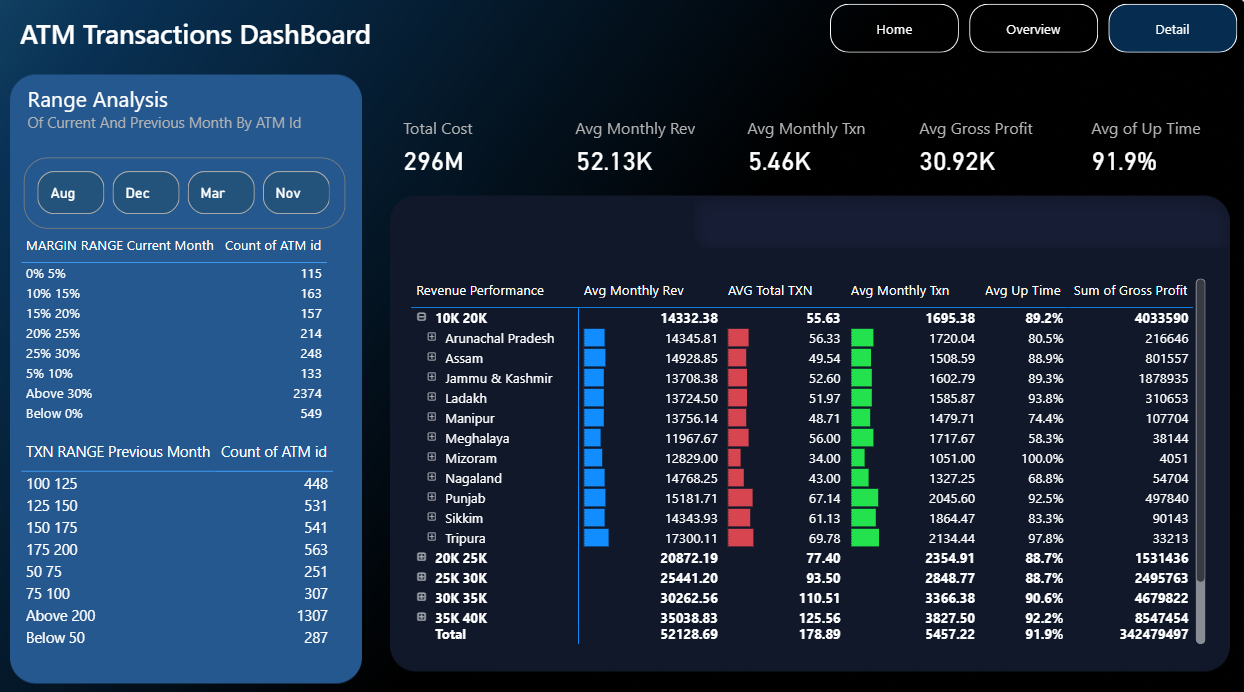

This screenshot's page, from the dashboard's own definition file:
{"tool":"powerbi","page":{"name":"Detail","canvas":[1280,720],"ordinal":2},"visuals":[{"type":"tableEx","fields":{"Values":["DataSet.MARGIN RANGE Current Month","DataSet.ATM id"]},"box":[34.8,239,338.7,205.7],"z":0},{"type":"tableEx","fields":{"Values":["DataSet.TXN RANGE Previous Month","DataSet.ATM id"]},"box":[34.8,444.7,338.7,232.6],"z":1000},{"type":"advancedSlicerVisual","fields":{"Values":["DataSet.Short_Month"]},"box":[44.3,167.8,321.3,71.2],"z":2000},{"type":"textbox","box":[42.7,88.6,321.3,79.1],"z":3000},{"type":"textbox","box":[34.8,20.6,476.4,53.8],"z":4000},{"type":"pivotTable","fields":{"Rows":["DataSet.Revenue Performance","DataSet.STATE","DataSet.ATM id"],"Values":["Avg(DataSet.Monthly Rev)","Avg(DataSet.AVG Total TXN)","Avg(DataSet.Monthly Txn)","Avg(DataSet.Up Time)","Sum(DataSet. Gross Profit )"]},"box":[425.7,283.3,804,375.1],"z":5000},{"type":"cardVisual","fields":{"Data":["Sum(DataSet. Total Cost  )","Avg(DataSet.Monthly Rev)","Avg(DataSet.Monthly Txn)","Avg(DataSet. Gross Profit )","Avg(DataSet.Up Time)"]},"box":[406.2,109.8,864.5,85.1],"z":6000},{"type":"pageNavigator","box":[849.4,13.7,408.9,49.4],"z":7000}]}

Visuals, with their boxes in screenshot pixels (x1, y1, x2, y2), scaled from the page's 1280x720 canvas onto the 1244x692 screenshot:
tableEx - DataSet.MARGIN RANGE Current Month x DataSet.ATM id: crop(34, 230, 363, 427)
tableEx - DataSet.TXN RANGE Previous Month x DataSet.ATM id: crop(34, 427, 363, 651)
advancedSlicerVisual - DataSet.Short_Month: crop(43, 161, 355, 230)
textbox: crop(41, 85, 354, 161)
textbox: crop(34, 20, 497, 72)
pivotTable - DataSet.Revenue Performance x DataSet.STATE: crop(414, 272, 1195, 633)
cardVisual - Sum(DataSet. Total Cost  ) x Avg(DataSet.Monthly Rev): crop(395, 106, 1235, 187)
pageNavigator: crop(826, 13, 1223, 61)
